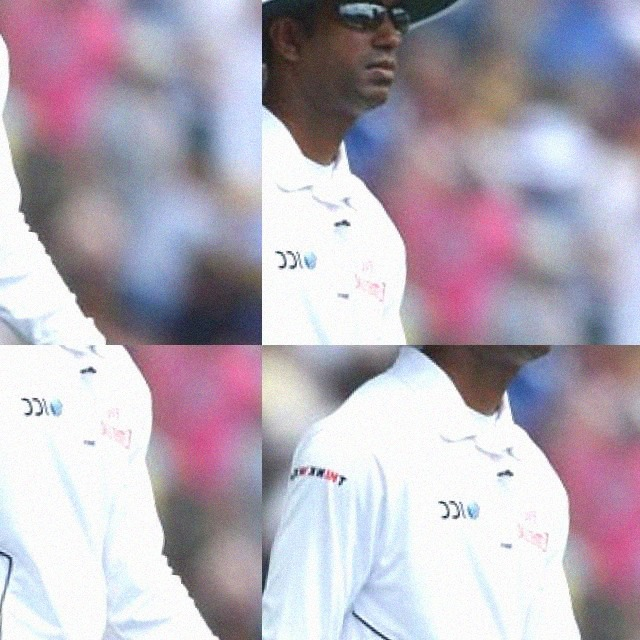No_Action: (262, 345, 640, 640)
No_Ball: (0, 0, 262, 345)
Out: (262, 40, 371, 345)
Six: (0, 345, 182, 640)
